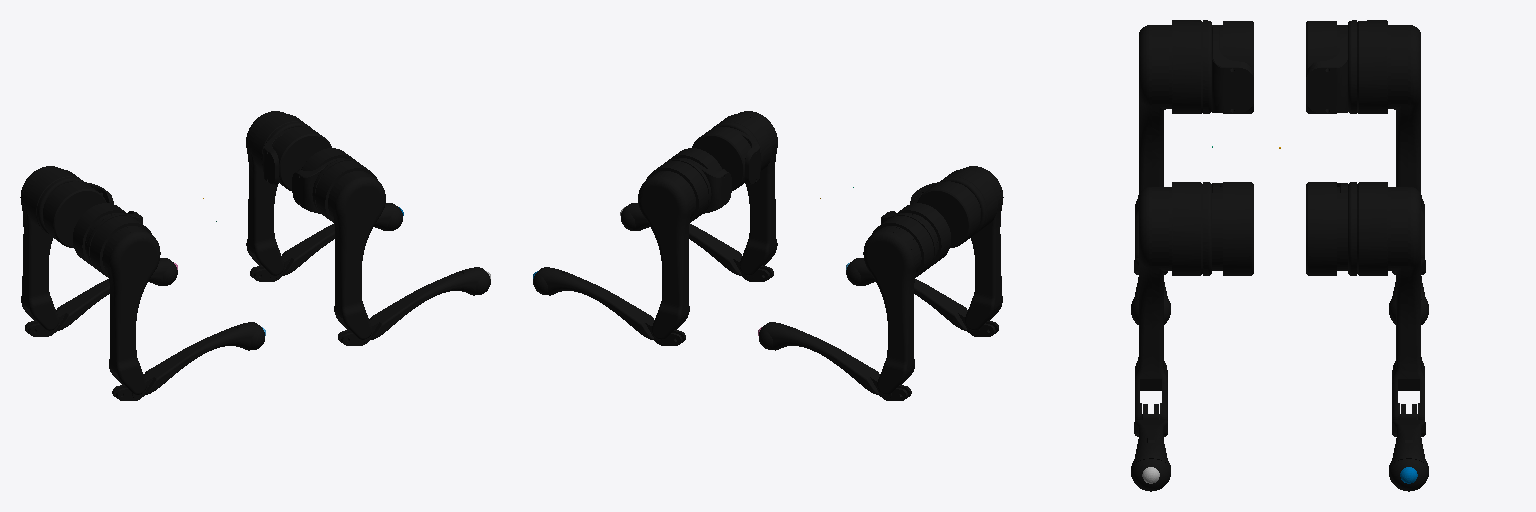
--- What the picture shows (computed from the rendered views, not written in the file) ---
3 views of the same robot in one strip: view 1: azimuth 30°, elevation 25°; view 2: azimuth 150°, elevation 25°; view 3: azimuth 270°, elevation 25° (orthographic).
Robot: go1_description — 38 links, 37 joints (12 revolute, 25 fixed); root link base; default pose: joints at zero except 4 at the middle of their limits (FR_calf_joint = -1.78, FL_calf_joint = -1.78, RR_calf_joint = -1.78, RL_calf_joint = -1.78).
Visible links, largest first — view 1: FR_thigh, RR_thigh, RL_thigh, FL_thigh, FR_calf, RR_calf, FL_hip, RL_hip, FL_calf, RL_calf, FR_hip, RR_hip; view 2: FL_thigh, RL_thigh, RR_thigh, FR_thigh, FL_calf, RL_calf, FR_hip, RR_hip, FR_calf, RR_calf, FL_hip, RL_hip; view 3: FL_thigh, FR_thigh, RR_thigh, RL_thigh, FR_hip, FL_hip, RR_hip, RL_hip, FL_calf, FR_calf.
Boxes of the visible links, x1,y1,x2,y2 form: FR_thigh: (312,159,385,339); RR_thigh: (87,214,160,394); RL_thigh: (20,166,83,330); FL_thigh: (246,111,311,275); FR_calf: (338,267,490,345); RR_calf: (112,322,264,400); FL_hip: (263,127,331,190); RL_hip: (43,181,113,247); FL_calf: (250,203,402,281); RL_calf: (25,258,177,336); FR_hip: (292,148,355,213); RR_hip: (73,203,142,265); FL_thigh: (638,159,711,339); RL_thigh: (863,214,936,394); RR_thigh: (940,166,1003,330); FR_thigh: (712,111,777,275); FL_calf: (533,267,685,345); RL_calf: (759,322,911,400); FR_hip: (692,127,760,190); RR_hip: (910,181,980,247); FR_calf: (621,203,773,281); RR_calf: (846,258,998,336); FL_hip: (668,148,731,213); RL_hip: (881,203,950,265); FL_thigh: (1348,182,1424,421); FR_thigh: (1135,182,1211,420); RR_thigh: (1135,20,1211,258); RL_thigh: (1348,20,1424,258); FR_hip: (1212,182,1253,275); FL_hip: (1306,182,1347,275); RR_hip: (1212,21,1253,113); RL_hip: (1306,21,1347,113); FL_calf: (1389,404,1428,491); FR_calf: (1131,404,1170,491).
Bounding box of the posed robot: 0.6405 × 0.2935 × 0.271 m (x, y, z).
Meshes: 7 distinct files referenced, 12 mesh visuals loaded (4 Collada DAE); not drawn: 9 (reference not matched to a file when rendering).

The robot description file, URDF, robot "go1_description":
<?xml version="1.0" ?>
<!-- =================================================================================== -->
<!-- |    This document was autogenerated by xacro from robot.xacro                    | -->
<!-- |    EDITING THIS FILE BY HAND IS NOT RECOMMENDED                                 | -->
<!-- =================================================================================== -->
<robot name="go1_description" xmlns:xacro="http://www.ros.org/wiki/xacro">
  <material name="black">
    <color rgba="0.0 0.0 0.0 1.0"/>
  </material>
  <material name="blue">
    <color rgba="0.0 0.0 0.8 1.0"/>
  </material>
  <material name="green">
    <color rgba="0.0 0.8 0.0 1.0"/>
  </material>
  <material name="grey">
    <color rgba="0.2 0.2 0.2 1.0"/>
  </material>
  <material name="silver">
    <color rgba="0.913725490196 0.913725490196 0.847058823529 1.0"/>
  </material>
  <material name="orange">
    <color rgba="1.0 0.423529411765 0.0392156862745 1.0"/>
  </material>
  <material name="brown">
    <color rgba="0.870588235294 0.811764705882 0.764705882353 1.0"/>
  </material>
  <material name="red">
    <color rgba="0.8 0.0 0.0 1.0"/>
  </material>
  <material name="white">
    <color rgba="1.0 1.0 1.0 1.0"/>
  </material>
  <!-- ros_control plugin -->
  <!-- <gazebo>
    <plugin filename="libgazebo_ros_control.so" name="gazebo_ros_control">
      <robotNamespace>/go1_gazebo</robotNamespace>
      <robotSimType>gazebo_ros_control/DefaultRobotHWSim</robotSimType>
    </plugin>
  </gazebo> -->
  <!-- Show the trajectory of trunk center. -->
  <!-- <gazebo>
    <plugin filename="libLinkPlot3DPlugin.so" name="3dplot">
      <frequency>10</frequency>
      <plot>
        <link>base</link>
        <pose>0 0 0 0 0 0</pose>
        <material>Gazebo/Yellow</material>
      </plot>
    </plugin>
  </gazebo> -->
  <!-- Show the trajectory of foot. You can add another trajectory about another foot. -->
  <!-- <gazebo>
        <plugin name="3dplot" filename="libLinkPlot3DPlugin.so">
            <frequency>100</frequency>
            <plot>
                <link>FL_foot</link>
                <pose>0 0 0 0 0 0</pose>
                <material>Gazebo/Green</material>
            </plot>
        </plugin>
    </gazebo> -->
  <!-- <gazebo>
    <plugin filename="libgazebo_ros_force.so" name="gazebo_ros_force">
      <bodyName>trunk</bodyName>
      <topicName>/apply_force/trunk</topicName>
    </plugin>
  </gazebo> -->
  <!-- <gazebo reference="imu_link">
    <gravity>true</gravity>
    <sensor name="imu_sensor" type="imu">
      <always_on>true</always_on>
      <update_rate>1000</update_rate>
      <visualize>true</visualize>
      <topic>__default_topic__</topic>
      <plugin filename="libgazebo_ros_imu_sensor.so" name="imu_plugin">
        <topicName>trunk_imu</topicName>
        <bodyName>imu_link</bodyName>
        <updateRateHZ>1000.0</updateRateHZ>
        <gaussianNoise>0.0</gaussianNoise>
        <xyzOffset>0 0 0</xyzOffset>
        <rpyOffset>0 0 0</rpyOffset>
        <frameName>imu_link</frameName>
      </plugin>
      <pose>0 0 0 0 0 0</pose>
    </sensor>
  </gazebo> -->
  <!-- Depth camera -->
  <!-- <gazebo>
        <plugin name="camera_plugin" filename="libgazebo_ros_openni_kinect.so">
            <baseline>0.025</baseline>
            <always_on>true</always_on>
            <updateRate>0.0</updateRate>
            <cameraName>unitree_camera_left</cameraName>
            <frameName>depthCamera_link_left</frameName>
            <imageTopicName>rgb/imageRaw_left</imageTopicName>
            <depthImageTopicName>depth/imageRaw_left</depthImageTopicName>
            <pointCloudTopicName>depth/points_left</pointCloudTopicName>
            <cameraInfoTopicName>rgb/cameraInfo_left</cameraInfoTopicName>              
            <depthImageCameraInfoTopicName>depth/cameraInfo_left</depthImageCameraInfoTopicName>            
            <pointCloudCutoff>0.1</pointCloudCutoff>                
            <pointCloudCutoffMax>1.5</pointCloudCutoffMax>                
            <distortionK1>0.0</distortionK1>
            <distortionK2>0.0</distortionK2>
            <distortionK3>0.0</distortionK3>
            <distortionT1>0.0</distortionT1>
            <distortionT2>0.0</distortionT2>
            <CxPrime>0.0</CxPrime>
            <Cx>0.0045</Cx>
            <Cy>0.0039</Cy>
            <focalLength>0.004</focalLength>
            <hackBaseline>0.0</hackBaseline>
        </plugin>
    </gazebo> -->
  <!-- <gazebo reference="depthCamera_link_left">
        <sensor name="unitree_camera_left" type="depth_camera">
            <update_rate>16</update_rate>
            <always_on>true</always_on>
            <visualize>true</visualize>
            <camera>
                <horizontal_fov>2.094</horizontal_fov>
                <image>
                    <width>928</width>
                    <height>800</height>
                    <format>R8G8B8</format>
                </image>
                <depth_camera></depth_camera>
                <clip>
                    <near>0.1</near>
                    <far>100</far>
                </clip>
            </camera>
            <plugin name="camera_plugin" filename="libgazebo_ros_openni_kinect.so">
                <baseline>0.025</baseline>
                <always_on>true</always_on>
                <updateRate>0.0</updateRate>
                <cameraName>unitree_camera_left</cameraName>
                <frameName>depthCamera_link_left</frameName>
                <imageTopicName>rgb/imageRaw_left</imageTopicName>
                <depthImageTopicName>depth/imageRaw_left</depthImageTopicName>
                <pointCloudTopicName>depth/points_left</pointCloudTopicName>
                <cameraInfoTopicName>rgb/cameraInfo_left</cameraInfoTopicName>              
                <depthImageCameraInfoTopicName>depth/cameraInfo_left</depthImageCameraInfoTopicName>            
                <pointCloudCutoff>0.1</pointCloudCutoff>                
                <pointCloudCutoffMax>1.5</pointCloudCutoffMax>                
                <distortionK1>0.0</distortionK1>
                <distortionK2>0.0</distortionK2>
                <distortionK3>0.0</distortionK3>
                <distortionT1>0.0</distortionT1>
                <distortionT2>0.0</distortionT2>
                <CxPrime>0.0</CxPrime>
                <Cx>0.0045</Cx>
                <Cy>0.0039</Cy>
                <focalLength>0.004</focalLength>
                <hackBaseline>0.0</hackBaseline>
            </plugin>
        </sensor>
    </gazebo> -->
  <!-- <gazebo reference="depthCamera_link_left">
    <sensor name="camera_link_camera" type="depth">
      <update_rate>20</update_rate>
      <camera>
        <horizontal_fov>1.047198</horizontal_fov>
        <image>
          <width>640</width>
          <height>480</height>
          <format>R8G8B8</format>
        </image>
        <clip>
          <near>0.05</near>
          <far>3</far>
        </clip>
      </camera>
      <plugin filename="libgazebo_ros_openni_kinect.so" name="camera_link_controller">
        <baseline>0.2</baseline>
        <alwaysOn>true</alwaysOn>
        <updateRate>1.0</updateRate>
        <cameraName>camera_link_ir</cameraName>
        <imageTopicName>/camera_link/color/image_raw</imageTopicName>
        <cameraInfoTopicName>/camera_link/color/camera_info</cameraInfoTopicName>
        <depthImageTopicName>/camera_link/depth/image_raw</depthImageTopicName>
        <depthImageInfoTopicName>/camera_link/depth/camera_info</depthImageInfoTopicName>
        <pointCloudTopicName>/camera_link/depth/points</pointCloudTopicName>
        <frameName>depthCamera_link_left</frameName>
        <pointCloudCutoff>0.5</pointCloudCutoff>
        <pointCloudCutoffMax>3.0</pointCloudCutoffMax>
        <distortionK1>0.00000001</distortionK1>
        <distortionK2>0.00000001</distortionK2>
        <distortionK3>0.00000001</distortionK3>
        <distortionT1>0.00000001</distortionT1>
        <distortionT2>0.00000001</distortionT2>
        <CxPrime>0</CxPrime>
        <Cx>0</Cx>
        <Cy>0</Cy>
        <focalLength>0</focalLength>
        <hackBaseline>0</hackBaseline>
      </plugin>
    </sensor>
  </gazebo> -->
  <!-- Foot contacts. -->
  <!-- <gazebo reference="FR_calf">
    <sensor name="FR_foot_contact" type="contact">
      <update_rate>100</update_rate>
      <plugin filename="libunitreeFootContactPlugin.so" name="contactPlugin"/>
      <contact>
        <collision>FR_calf_fixed_joint_lump__FR_foot_collision_1</collision>
      </contact>
    </sensor>
  </gazebo>
  <gazebo reference="FL_calf">
    <sensor name="FL_foot_contact" type="contact">
      <update_rate>100</update_rate>
      <plugin filename="libunitreeFootContactPlugin.so" name="contactPlugin"/>
      <contact>
        <collision>FL_calf_fixed_joint_lump__FL_foot_collision_1</collision>
      </contact>
    </sensor>
  </gazebo>
  <gazebo reference="RR_calf">
    <sensor name="RR_foot_contact" type="contact">
      <update_rate>100</update_rate>
      <plugin filename="libunitreeFootContactPlugin.so" name="contactPlugin"/>
      <contact>
        <collision>RR_calf_fixed_joint_lump__RR_foot_collision_1</collision>
      </contact>
    </sensor>
  </gazebo>
  <gazebo reference="RL_calf">
    <sensor name="RL_foot_contact" type="contact">
      <update_rate>100</update_rate>
      <plugin filename="libunitreeFootContactPlugin.so" name="contactPlugin"/>
      <contact>
        <collision>RL_calf_fixed_joint_lump__RL_foot_collision_1</collision>
      </contact>
    </sensor>
  </gazebo> -->
  <!-- Visualization of Foot contacts. -->
  <gazebo reference="FR_foot">
    <visual>
      <plugin filename="libunitreeDrawForcePlugin.so" name="drawForcePlugin">
        <topicName>FR_foot_contact</topicName>
      </plugin>
    </visual>
  </gazebo>
  <gazebo reference="FL_foot">
    <visual>
      <plugin filename="libunitreeDrawForcePlugin.so" name="drawForcePlugin">
        <topicName>FL_foot_contact</topicName>
      </plugin>
    </visual>
  </gazebo>
  <gazebo reference="RR_foot">
    <visual>
      <plugin filename="libunitreeDrawForcePlugin.so" name="drawForcePlugin">
        <topicName>RR_foot_contact</topicName>
      </plugin>
    </visual>
  </gazebo>
  <gazebo reference="RL_foot">
    <visual>
      <plugin filename="libunitreeDrawForcePlugin.so" name="drawForcePlugin">
        <topicName>RL_foot_contact</topicName>
      </plugin>
    </visual>
  </gazebo>
  <gazebo reference="base">
    <material>Gazebo/Green</material>
    <turnGravityOff>false</turnGravityOff>
  </gazebo>
  <gazebo reference="trunk">
    <mu1>0.2</mu1>
    <mu2>0.2</mu2>
    <kp value="1000000.0"/>
    <kd value="1.0"/>
  </gazebo>
  <gazebo reference="stick_link">
    <mu1>0.2</mu1>
    <mu2>0.2</mu2>
    <material>Gazebo/White</material>
  </gazebo>
  <gazebo reference="imu_link">
    <mu1>0.2</mu1>
    <mu2>0.2</mu2>
    <material>Gazebo/Red</material>
  </gazebo>
  <!-- FL leg -->
  <gazebo reference="FL_hip">
    <mu1>0.2</mu1>
    <mu2>0.2</mu2>
    <material>Gazebo/DarkGrey</material>
  </gazebo>
  <gazebo reference="FL_thigh">
    <mu1>0.2</mu1>
    <mu2>0.2</mu2>
    <self_collide>1</self_collide>
    <material>Gazebo/DarkGrey</material>
    <kp value="1000000.0"/>
    <kd value="1.0"/>
  </gazebo>
  <gazebo reference="FL_calf">
    <mu1>0.2</mu1>
    <mu2>0.2</mu2>
    <self_collide>1</self_collide>
  </gazebo>
  <gazebo reference="FL_foot">
    <mu1>0.6</mu1>
    <mu2>0.6</mu2>
    <self_collide>1</self_collide>
    <material>Gazebo/DarkGrey</material>
    <kp value="1000000.0"/>
    <kd value="1.0"/>
  </gazebo>
  <!-- FR leg -->
  <gazebo reference="FR_hip">
    <mu1>0.2</mu1>
    <mu2>0.2</mu2>
    <material>Gazebo/DarkGrey</material>
  </gazebo>
  <gazebo reference="FR_thigh">
    <mu1>0.2</mu1>
    <mu2>0.2</mu2>
    <self_collide>1</self_collide>
    <material>Gazebo/DarkGrey</material>
    <kp value="1000000.0"/>
    <kd value="1.0"/>
  </gazebo>
  <gazebo reference="FR_calf">
    <mu1>0.2</mu1>
    <mu2>0.2</mu2>
    <self_collide>1</self_collide>
  </gazebo>
  <gazebo reference="FR_foot">
    <mu1>0.6</mu1>
    <mu2>0.6</mu2>
    <self_collide>1</self_collide>
    <material>Gazebo/DarkGrey</material>
    <kp value="1000000.0"/>
    <kd value="1.0"/>
  </gazebo>
  <!-- RL leg -->
  <gazebo reference="RL_hip">
    <mu1>0.2</mu1>
    <mu2>0.2</mu2>
    <material>Gazebo/DarkGrey</material>
  </gazebo>
  <gazebo reference="RL_thigh">
    <mu1>0.2</mu1>
    <mu2>0.2</mu2>
    <self_collide>1</self_collide>
    <material>Gazebo/DarkGrey</material>
    <kp value="1000000.0"/>
    <kd value="1.0"/>
  </gazebo>
  <gazebo reference="RL_calf">
    <mu1>0.2</mu1>
    <mu2>0.2</mu2>
    <self_collide>1</self_collide>
  </gazebo>
  <gazebo reference="RL_foot">
    <mu1>0.6</mu1>
    <mu2>0.6</mu2>
    <self_collide>1</self_collide>
    <material>Gazebo/DarkGrey</material>
    <kp value="1000000.0"/>
    <kd value="1.0"/>
  </gazebo>
  <!-- RR leg -->
  <gazebo reference="RR_hip">
    <mu1>0.2</mu1>
    <mu2>0.2</mu2>
    <material>Gazebo/DarkGrey</material>
  </gazebo>
  <gazebo reference="RR_thigh">
    <mu1>0.2</mu1>
    <mu2>0.2</mu2>
    <self_collide>1</self_collide>
    <material>Gazebo/DarkGrey</material>
    <kp value="1000000.0"/>
    <kd value="1.0"/>
  </gazebo>
  <gazebo reference="RR_calf">
    <mu1>0.2</mu1>
    <mu2>0.2</mu2>
    <self_collide>1</self_collide>
  </gazebo>
  <gazebo reference="RR_foot">
    <mu1>0.6</mu1>
    <mu2>0.6</mu2>
    <self_collide>1</self_collide>
    <material>Gazebo/DarkGrey</material>
    <kp value="1000000.0"/>
    <kd value="1.0"/>
  </gazebo>
  <!-- <xacro:include filename="$(find go1_gazebo)/launch/stairs.urdf.xacro"/> -->
  <!-- <xacro:stairs stairs="15" xpos="0" ypos="0" zpos="0" /> -->
  <!-- Debug mode will hung up the robot, use "true" or "false" to switch it. -->
  <!-- <xacro:if value="$(arg DEBUG)">
    <link name="world"/>
    <joint name="base_static_joint" type="fixed">
      <origin rpy="0 0 0" xyz="0 0 0"/>
      <parent link="world"/>
      <child link="base"/>
    </joint>
  </xacro:if>  -->
  <link name="base">
    <visual>
      <origin rpy="0 0 0" xyz="0 0 0"/>
      <geometry>
        <box size="0.001 0.001 0.001"/>
      </geometry>
    </visual>
  </link>
  <joint name="floating_base" type="fixed">
    <origin rpy="0 0 0" xyz="0 0 0"/>
    <parent link="base"/>
    <child link="trunk"/>
  </joint>
  <link name="trunk">
    <visual>
      <origin rpy="0 0 0" xyz="0 0 0"/>
      <geometry>
        <mesh filename="../meshes/trunk.dae" scale="1 1 1"/>
      </geometry>
      <!-- <material name="orange"/> -->
    </visual>
    <collision>
      <origin rpy="0 0 0" xyz="0 0 0"/>
      <geometry>
        <box size="0.28 0.16 0.11"/>
      </geometry>
    </collision>
    <inertial>
      <origin rpy="0 0 0" xyz="0.0223 0.002 -0.0005"/>
      <mass value="5.204"/>
      <inertia ixx="0.0168352186" ixy="0.0004636141" ixz="0.0002367952" iyy="0.0656071082" iyz="3.6671e-05" izz="0.0742720659"/>
    </inertial>
  </link>
  <joint name="imu_joint" type="fixed">
    <parent link="trunk"/>
    <child link="imu_link"/>
    <origin rpy="0 0 0" xyz="-0.01592 -0.06659 -0.00617"/>
  </joint>
  <link name="imu_link">
    <inertial>
      <mass value="0.001"/>
      <origin rpy="0 0 0" xyz="0 0 0"/>
      <inertia ixx="0.0001" ixy="0" ixz="0" iyy="0.0001" iyz="0" izz="0.0001"/>
    </inertial>
    <visual>
      <origin rpy="0 0 0" xyz="0 0 0"/>
      <geometry>
        <box size="0.001 0.001 0.001"/>
      </geometry>
      <!-- <material name="red"/> -->
    </visual>
    <collision>
      <!-- For front face camera module -->
      <!-- The additional realsense camera is taken into account -->
      <origin rpy="0 0 0" xyz="0.28 0.06659 0.0325"/>
      <geometry>
        <box size=".05 .11 .17"/>
      </geometry>
    </collision>
  </link>
  <joint name="FR_hip_joint" type="revolute">
    <origin rpy="0 0 0" xyz="0.1881 -0.04675 0"/>
    <parent link="trunk"/>
    <child link="FR_hip"/>
    <axis xyz="1 0 0"/>
    <dynamics damping="0.0" friction="0.0"/>
    <limit effort="23.7" lower="-1.0471975512" upper="1.0471975512" velocity="30.1"/>
  </joint>
  <link name="FR_hip">
    <visual>
      <origin rpy="3.14159265359 0 0" xyz="0 0 0"/>
      <geometry>
        <mesh filename="../meshes/hip.dae" scale="1 1 1"/>
      </geometry>
      <!-- <material name="orange"/> -->
    </visual>
    <collision>
      <origin rpy="1.57079632679 0 0" xyz="0 0 0"/>
      <geometry>
        <cylinder length="0.04" radius="0.046"/>
      </geometry>
    </collision>
    <inertial>
      <origin rpy="0 0 0" xyz="-0.00541 0.00074 6e-06"/>
      <mass value="0.591"/>
      <inertia ixx="0.000374268192" ixy="-3.6844422e-05" ixz="-9.86754e-07" iyy="0.000635923669" iyz="1.172894e-06" izz="0.000457647394"/>
    </inertial>
  </link>
  <joint name="FR_hip_fixed" type="fixed">
    <origin rpy="0 0 0" xyz="0 -0.08 0"/>
    <parent link="FR_hip"/>
    <child link="FR_thigh_shoulder"/>
  </joint>
  <!-- this link is only for collision -->
  <link name="FR_thigh_shoulder">
    <collision>
      <origin rpy="1.57079632679 0 0" xyz="0 0 0"/>
      <geometry>
        <cylinder length="0.002" radius="0.044"/>
      </geometry>
    </collision>
  </link>
  <joint name="FR_thigh_joint" type="revolute">
    <origin rpy="0 0 0" xyz="0 -0.08 0"/>
    <parent link="FR_hip"/>
    <child link="FR_thigh"/>
    <axis xyz="0 1 0"/>
    <dynamics damping="0.0" friction="0.0"/>
    <limit effort="23.7" lower="-0.663225115758" upper="2.96705972839" velocity="30.1"/>
  </joint>
  <link name="FR_thigh">
    <visual>
      <origin rpy="0 0 0" xyz="0 0 0"/>
      <geometry>
        <mesh filename="../meshes/thigh_mirror.dae" scale="1 1 1"/>
      </geometry>
      <!-- <material name="orange"/> -->
    </visual>
    <collision>
      <origin rpy="0 1.57079632679 0" xyz="0 0 -0.1065"/>
      <geometry>
        <box size="0.213 0.0245 0.034"/>
      </geometry>
    </collision>
    <inertial>
      <origin rpy="0 0 0" xyz="-0.003468 0.018947 -0.032736"/>
      <mass value="0.92"/>
      <inertia ixx="0.005851561134" ixy="-1.783284e-06" ixz="0.000328291374" iyy="0.005596155105" iyz="-2.1430713e-05" izz="0.00107157026"/>
    </inertial>
  </link>
  <joint name="FR_calf_joint" type="revolute">
    <origin rpy="0 0 0" xyz="0 0 -0.213"/>
    <parent link="FR_thigh"/>
    <child link="FR_calf"/>
    <axis xyz="0 1 0"/>
    <dynamics damping="0.0" friction="0.0"/>
    <limit effort="23.7" lower="-2.72271363311" upper="-0.837758040957" velocity="30.1"/>
  </joint>
  <link name="FR_calf">
    <visual>
      <origin rpy="0 0 0" xyz="0 0 0"/>
      <geometry>
        <mesh filename="../meshes/calf.dae" scale="1 1 1"/>
      </geometry>
      <!-- <material name="orange"/> -->
    </visual>
    <collision>
      <origin rpy="0 1.57079632679 0" xyz="0 0 -0.1065"/>
      <geometry>
        <box size="0.213 0.016 0.016"/>
      </geometry>
    </collision>
    <inertial>
      <origin rpy="0 0 0" xyz="0.006286 0.001307 -0.122269"/>
      <mass value="0.131"/>
      <inertia ixx="0.002939186297" ixy="1.440899e-06" ixz="-0.00010535955" iyy="0.00295576935" iyz="-2.4397752e-05" izz="3.0273372e-05"/>
    </inertial>
  </link>
  <joint name="FR_foot_fixed" type="fixed">
    <origin rpy="0 0 0" xyz="0 0 -0.213"/>
    <parent link="FR_calf"/>
    <child link="FR_foot"/>
  </joint>
  <link name="FR_foot">
    <visual>
      <origin rpy="0 0 0" xyz="0 0 0"/>
      <geometry>
        <sphere radius="0.01"/>
      </geometry>
      <!-- <material name="orange"/> -->
    </visual>
    <collision>
      <origin rpy="0 0 0" xyz="0 0 0"/>
      <geometry>
        <sphere radius="0.02"/>
      </geometry>
    </collision>
    <inertial>
      <mass value="0.06"/>
      <inertia ixx="9.6e-06" ixy="0.0" ixz="0.0" iyy="9.6e-06" iyz="0.0" izz="9.6e-06"/>
    </inertial>
  </link>
  <!-- <transmission name="FR_hip_tran">
    <type>transmission_interface/SimpleTransmission</type>
    <joint name="FR_hip_joint">
      <hardwareInterface>hardware_interface/EffortJointInterface</hardwareInterface>
    </joint>
    <actuator name="FR_hip_motor">
      <hardwareInterface>hardware_interface/EffortJointInterface</hardwareInterface>
      <mechanicalReduction>1</mechanicalReduction>
    </actuator>
  </transmission> -->
  <!-- <transmission name="FR_thigh_tran">
    <type>transmission_interface/SimpleTransmission</type>
    <joint name="FR_thigh_joint">
      <hardwareInterface>hardware_interface/EffortJointInterface</hardwareInterface>
    </joint>
    <actuator name="FR_thigh_motor">
      <hardwareInterface>hardware_interface/EffortJointInterface</hardwareInterface>
      <mechanicalReduction>1</mechanicalReduction>
    </actuator>
  </transmission> -->
  <!-- <transmission name="FR_calf_tran">
    <type>transmission_interface/SimpleTransmission</type>
    <joint name="FR_calf_joint">
      <hardwareInterface>hardware_interface/EffortJointInterface</hardwareInterface>
    </joint>
    <actuator name="FR_calf_motor">
      <hardwareInterface>hardware_interface/EffortJointInterface</hardwareInterface>
      <mechanicalReduction>1</mechanicalReduction>
    </actuator>
  </transmission> -->
  <joint name="FL_hip_joint" type="revolute">
    <origin rpy="0 0 0" xyz="0.1881 0.04675 0"/>
    <parent link="trunk"/>
    <child link="FL_hip"/>
    <axis xyz="1 0 0"/>
    <dynamics damping="0.0" friction="0.0"/>
    <limit effort="23.7" lower="-1.0471975512" upper="1.0471975512" velocity="30.1"/>
  </joint>
  <link name="FL_hip">
    <visual>
      <origin rpy="0 0 0" xyz="0 0 0"/>
      <geometry>
        <mesh filename="../meshes/hip.dae" scale="1 1 1"/>
      </geometry>
      <!-- <material name="orange"/> -->
    </visual>
    <collision>
      <origin rpy="1.57079632679 0 0" xyz="0 0 0"/>
      <geometry>
        <cylinder length="0.04" radius="0.046"/>
      </geometry>
    </collision>
    <inertial>
      <origin rpy="0 0 0" xyz="-0.00541 -0.00074 6e-06"/>
      <mass value="0.591"/>
      <inertia ixx="0.000374268192" ixy="3.6844422e-05" ixz="-9.86754e-07" iyy="0.000635923669" iyz="-1.172894e-06" izz="0.000457647394"/>
    </inertial>
  </link>
  <joint name="FL_hip_fixed" type="fixed">
    <origin rpy="0 0 0" xyz="0 0.08 0"/>
    <parent link="FL_hip"/>
    <child link="FL_thigh_shoulder"/>
  </joint>
  <!-- this link is only for collision -->
  <link name="FL_thigh_shoulder">
    <collision>
      <origin rpy="1.57079632679 0 0" xyz="0 0 0"/>
      <geometry>
        <cylinder length="0.002" radius="0.044"/>
      </geometry>
    </collision>
  </link>
  <joint name="FL_thigh_joint" type="revolute">
    <origin rpy="0 0 0" xyz="0 0.08 0"/>
    <parent link="FL_hip"/>
    <child link="FL_thigh"/>
    <axis xyz="0 1 0"/>
    <dynamics damping="0.0" friction="0.0"/>
    <limit effort="23.7" lower="-0.663225115758" upper="2.96705972839" velocity="30.1"/>
  </joint>
  <link name="FL_thigh">
    <visual>
      <origin rpy="0 0 0" xyz="0 0 0"/>
      <geometry>
        <mesh filename="../meshes/thigh.dae" scale="1 1 1"/>
      </geometry>
      <!-- <material name="orange"/> -->
    </visual>
    <collision>
      <origin rpy="0 1.57079632679 0" xyz="0 0 -0.1065"/>
      <geometry>
        <box size="0.213 0.0245 0.034"/>
      </geometry>
    </collision>
    <inertial>
      <origin rpy="0 0 0" xyz="-0.003468 -0.018947 -0.032736"/>
      <mass value="0.92"/>
      <inertia ixx="0.005851561134" ixy="1.783284e-06" ixz="0.000328291374" iyy="0.005596155105" iyz="2.1430713e-05" izz="0.00107157026"/>
    </inertial>
  </link>
  <joint name="FL_calf_joint" type="revolute">
    <origin rpy="0 0 0" xyz="0 0 -0.213"/>
    <parent link="FL_thigh"/>
    <child link="FL_calf"/>
    <axis xyz="0 1 0"/>
    <dynamics damping="0.0" friction="0.0"/>
    <limit effort="23.7" lower="-2.72271363311" upper="-0.837758040957" velocity="30.1"/>
  </joint>
  <link name="FL_calf">
    <visual>
      <origin rpy="0 0 0" xyz="0 0 0"/>
      <geometry>
        <mesh filename="../meshes/calf.dae" scale="1 1 1"/>
      </geometry>
      <!-- <material name="orange"/> -->
    </visual>
    <collision>
      <origin rpy="0 1.57079632679 0" xyz="0 0 -0.1065"/>
      <geometry>
        <box size="0.213 0.016 0.016"/>
      </geometry>
    </collision>
    <inertial>
      <origin rpy="0 0 0" xyz="0.006286 0.001307 -0.122269"/>
      <mass value="0.131"/>
      <inertia ixx="0.002939186297" ixy="1.440899e-06" ixz="-0.00010535955" iyy="0.00295576935" iyz="-2.4397752e-05" izz="3.0273372e-05"/>
    </inertial>
  </link>
  <joint name="FL_foot_fixed" type="fixed">
    <origin rpy="0 0 0" xyz="0 0 -0.213"/>
    <parent link="FL_calf"/>
    <child link="FL_foot"/>
  </joint>
  <link name="FL_foot">
    <visual>
      <origin rpy="0 0 0" xyz="0 0 0"/>
      <geometry>
        <sphere radius="0.01"/>
      </geometry>
      <!-- <material name="orange"/> -->
    </visual>
    <collision>
      <origin rpy="0 0 0" xyz="0 0 0"/>
      <geometry>
        <sphere radius="0.02"/>
      </geometry>
    </collision>
    <inertial>
      <mass value="0.06"/>
      <inertia ixx="9.6e-06" ixy="0.0" ixz="0.0" iyy="9.6e-06" iyz="0.0" izz="9.6e-06"/>
    </inertial>
  </link>
  <!-- <transmission name="FL_hip_tran">
    <type>transmission_interface/SimpleTransmission</type>
    <joint name="FL_hip_joint">
      <hardwareInterface>hardware_interface/EffortJointInterface</hardwareInterface>
    </joint>
    <actuator name="FL_hip_motor">
      <hardwareInterface>hardware_interface/EffortJointInterface</hardwareInterface>
      <mechanicalReduction>1</mechanicalReduction>
    </actuator>
  </transmission> -->
  <!-- <transmission name="FL_thigh_tran">
    <type>transmission_interface/SimpleTransmission</type>
    <joint name="FL_thigh_joint">
      <hardwareInterface>hardware_interface/EffortJointInterface</hardwareInterface>
    </joint>
    <actuator name="FL_thigh_motor">
      <hardwareInterface>hardware_interface/EffortJointInterface</hardwareInterface>
      <mechanicalReduction>1</mechanicalReduction>
    </actuator>
  </transmission> -->
  <!-- <transmission name="FL_calf_tran">
    <type>transmission_interface/SimpleTransmission</type>
    <joint name="FL_calf_joint">
      <hardwareInterface>hardware_interface/EffortJointInterface</hardwareInterface>
    </joint>
    <actuator name="FL_calf_motor">
      <hardwareInterface>hardware_interface/EffortJointInterface</hardwareInterface>
      <mechanicalReduction>1</mechanicalReduction>
    </actuator>
  </transmission> -->
  <joint name="RR_hip_joint" type="revolute">
    <origin rpy="0 0 0" xyz="-0.1881 -0.04675 0"/>
    <parent link="trunk"/>
    <child link="RR_hip"/>
    <axis xyz="1 0 0"/>
    <dynamics damping="0.0" friction="0.0"/>
    <limit effort="23.7" lower="-1.0471975512" upper="1.0471975512" velocity="30.1"/>
  </joint>
  <link name="RR_hip">
    <visual>
      <origin rpy="3.14159265359 3.14159265359 0" xyz="0 0 0"/>
      <geometry>
        <mesh filename="../meshes/hip.dae" scale="1 1 1"/>
      </geometry>
      <!-- <material name="orange"/> -->
    </visual>
    <collision>
      <origin rpy="1.57079632679 0 0" xyz="0 0 0"/>
      <geometry>
        <cylinder length="0.04" radius="0.046"/>
      </geometry>
    </collision>
    <inertial>
      <origin rpy="0 0 0" xyz="0.00541 0.00074 6e-06"/>
      <mass value="0.591"/>
      <inertia ixx="0.000374268192" ixy="3.6844422e-05" ixz="9.86754e-07" iyy="0.000635923669" iyz="1.172894e-06" izz="0.000457647394"/>
    </inertial>
  </link>
  <joint name="RR_hip_fixed" type="fixed">
    <origin rpy="0 0 0" xyz="0 -0.08 0"/>
    <parent link="RR_hip"/>
    <child link="RR_thigh_shoulder"/>
  </joint>
  <!-- this link is only for collision -->
  <link name="RR_thigh_shoulder">
    <collision>
      <origin rpy="1.57079632679 0 0" xyz="0 0 0"/>
      <geometry>
        <cylinder length="0.002" radius="0.044"/>
      </geometry>
    </collision>
  </link>
  <joint name="RR_thigh_joint" type="revolute">
    <origin rpy="0 0 0" xyz="0 -0.08 0"/>
    <parent link="RR_hip"/>
    <child link="RR_thigh"/>
    <axis xyz="0 1 0"/>
    <dynamics damping="0.0" friction="0.0"/>
    <limit effort="23.7" lower="-0.663225115758" upper="2.96705972839" velocity="30.1"/>
  </joint>
  <link name="RR_thigh">
    <visual>
      <origin rpy="0 0 0" xyz="0 0 0"/>
      <geometry>
        <mesh filename="../meshes/thigh_mirror.dae" scale="1 1 1"/>
      </geometry>
      <!-- <material name="orange"/> -->
    </visual>
    <collision>
      <origin rpy="0 1.57079632679 0" xyz="0 0 -0.1065"/>
      <geometry>
        <box size="0.213 0.0245 0.034"/>
      </geometry>
    </collision>
    <inertial>
      <origin rpy="0 0 0" xyz="-0.003468 0.018947 -0.032736"/>
      <mass value="0.92"/>
      <inertia ixx="0.005851561134" ixy="-1.783284e-06" ixz="0.000328291374" iyy="0.005596155105" iyz="-2.1430713e-05" izz="0.00107157026"/>
    </inertial>
  </link>
  <joint name="RR_calf_joint" type="revolute">
    <origin rpy="0 0 0" xyz="0 0 -0.213"/>
    <parent link="RR_thigh"/>
    <child link="RR_calf"/>
    <axis xyz="0 1 0"/>
    <dynamics damping="0.0" friction="0.0"/>
    <limit effort="23.7" lower="-2.72271363311" upper="-0.837758040957" velocity="30.1"/>
  </joint>
  <link name="RR_calf">
    <visual>
      <origin rpy="0 0 0" xyz="0 0 0"/>
      <geometry>
        <mesh filename="../meshes/calf.dae" scale="1 1 1"/>
      </geometry>
      <!-- <material name="orange"/> -->
    </visual>
    <collision>
      <origin rpy="0 1.57079632679 0" xyz="0 0 -0.1065"/>
      <geometry>
        <box size="0.213 0.016 0.016"/>
      </geometry>
    </collision>
    <inertial>
      <origin rpy="0 0 0" xyz="0.006286 0.001307 -0.122269"/>
      <mass value="0.131"/>
      <inertia ixx="0.002939186297" ixy="1.440899e-06" ixz="-0.00010535955" iyy="0.00295576935" iyz="-2.4397752e-05" izz="3.0273372e-05"/>
    </inertial>
  </link>
  <joint name="RR_foot_fixed" type="fixed">
    <origin rpy="0 0 0" xyz="0 0 -0.213"/>
    <parent link="RR_calf"/>
    <child link="RR_foot"/>
  </joint>
  <link name="RR_foot">
    <visual>
      <origin rpy="0 0 0" xyz="0 0 0"/>
      <geometry>
        <sphere radius="0.01"/>
      </geometry>
      <!-- <material name="orange"/> -->
    </visual>
    <collision>
      <origin rpy="0 0 0" xyz="0 0 0"/>
      <geometry>
        <sphere radius="0.02"/>
      </geometry>
    </collision>
    <inertial>
      <mass value="0.06"/>
      <inertia ixx="9.6e-06" ixy="0.0" ixz="0.0" iyy="9.6e-06" iyz="0.0" izz="9.6e-06"/>
    </inertial>
  </link>
  <!-- <transmission name="RR_hip_tran">
    <type>transmission_interface/SimpleTransmission</type>
    <joint name="RR_hip_joint">
      <hardwareInterface>hardware_interface/EffortJointInterface</hardwareInterface>
    </joint>
    <actuator name="RR_hip_motor">
      <hardwareInterface>hardware_interface/EffortJointInterface</hardwareInterface>
      <mechanicalReduction>1</mechanicalReduction>
    </actuator>
  </transmission> -->
  <!-- <transmission name="RR_thigh_tran">
    <type>transmission_interface/SimpleTransmission</type>
    <joint name="RR_thigh_joint">
      <hardwareInterface>hardware_interface/EffortJointInterface</hardwareInterface>
    </joint>
    <actuator name="RR_thigh_motor">
      <hardwareInterface>hardware_interface/EffortJointInterface</hardwareInterface>
      <mechanicalReduction>1</mechanicalReduction>
    </actuator>
  </transmission> -->
  <!-- <transmission name="RR_calf_tran">
    <type>transmission_interface/SimpleTransmission</type>
    <joint name="RR_calf_joint">
      <hardwareInterface>hardware_interface/EffortJointInterface</hardwareInterface>
    </joint>
    <actuator name="RR_calf_motor">
      <hardwareInterface>hardware_interface/EffortJointInterface</hardwareInterface>
      <mechanicalReduction>1</mechanicalReduction>
    </actuator>
  </transmission> -->
  <joint name="RL_hip_joint" type="revolute">
    <origin rpy="0 0 0" xyz="-0.1881 0.04675 0"/>
    <parent link="trunk"/>
    <child link="RL_hip"/>
    <axis xyz="1 0 0"/>
    <dynamics damping="0.0" friction="0.0"/>
    <limit effort="23.7" lower="-1.0471975512" upper="1.0471975512" velocity="30.1"/>
  </joint>
  <link name="RL_hip">
    <visual>
      <origin rpy="0 3.14159265359 0" xyz="0 0 0"/>
      <geometry>
        <mesh filename="../meshes/hip.dae" scale="1 1 1"/>
      </geometry>
      <!-- <material name="orange"/> -->
    </visual>
    <collision>
      <origin rpy="1.57079632679 0 0" xyz="0 0 0"/>
      <geometry>
        <cylinder length="0.04" radius="0.046"/>
      </geometry>
    </collision>
    <inertial>
      <origin rpy="0 0 0" xyz="0.00541 -0.00074 6e-06"/>
      <mass value="0.591"/>
      <inertia ixx="0.000374268192" ixy="-3.6844422e-05" ixz="9.86754e-07" iyy="0.000635923669" iyz="-1.172894e-06" izz="0.000457647394"/>
    </inertial>
  </link>
  <joint name="RL_hip_fixed" type="fixed">
    <origin rpy="0 0 0" xyz="0 0.08 0"/>
    <parent link="RL_hip"/>
    <child link="RL_thigh_shoulder"/>
  </joint>
  <!-- this link is only for collision -->
  <link name="RL_thigh_shoulder">
    <collision>
      <origin rpy="1.57079632679 0 0" xyz="0 0 0"/>
      <geometry>
        <cylinder length="0.002" radius="0.044"/>
      </geometry>
    </collision>
  </link>
  <joint name="RL_thigh_joint" type="revolute">
    <origin rpy="0 0 0" xyz="0 0.08 0"/>
    <parent link="RL_hip"/>
    <child link="RL_thigh"/>
    <axis xyz="0 1 0"/>
    <dynamics damping="0.0" friction="0.0"/>
    <limit effort="23.7" lower="-0.663225115758" upper="2.96705972839" velocity="30.1"/>
  </joint>
  <link name="RL_thigh">
    <visual>
      <origin rpy="0 0 0" xyz="0 0 0"/>
      <geometry>
        <mesh filename="../meshes/thigh.dae" scale="1 1 1"/>
      </geometry>
      <!-- <material name="orange"/> -->
    </visual>
    <collision>
      <origin rpy="0 1.57079632679 0" xyz="0 0 -0.1065"/>
      <geometry>
        <box size="0.213 0.0245 0.034"/>
      </geometry>
    </collision>
    <inertial>
      <origin rpy="0 0 0" xyz="-0.003468 -0.018947 -0.032736"/>
      <mass value="0.92"/>
      <inertia ixx="0.005851561134" ixy="1.783284e-06" ixz="0.000328291374" iyy="0.005596155105" iyz="2.1430713e-05" izz="0.00107157026"/>
    </inertial>
  </link>
  <joint name="RL_calf_joint" type="revolute">
    <origin rpy="0 0 0" xyz="0 0 -0.213"/>
    <parent link="RL_thigh"/>
    <child link="RL_calf"/>
    <axis xyz="0 1 0"/>
    <dynamics damping="0.0" friction="0.0"/>
    <limit effort="23.7" lower="-2.72271363311" upper="-0.837758040957" velocity="30.1"/>
  </joint>
  <link name="RL_calf">
    <visual>
      <origin rpy="0 0 0" xyz="0 0 0"/>
      <geometry>
        <mesh filename="../meshes/calf.dae" scale="1 1 1"/>
      </geometry>
      <!-- <material name="orange"/> -->
    </visual>
    <collision>
      <origin rpy="0 1.57079632679 0" xyz="0 0 -0.1065"/>
      <geometry>
        <box size="0.213 0.016 0.016"/>
      </geometry>
    </collision>
    <inertial>
      <origin rpy="0 0 0" xyz="0.006286 0.001307 -0.122269"/>
      <mass value="0.131"/>
      <inertia ixx="0.002939186297" ixy="1.440899e-06" ixz="-0.00010535955" iyy="0.00295576935" iyz="-2.4397752e-05" izz="3.0273372e-05"/>
    </inertial>
  </link>
  <joint name="RL_foot_fixed" type="fixed">
    <origin rpy="0 0 0" xyz="0 0 -0.213"/>
    <parent link="RL_calf"/>
    <child link="RL_foot"/>
  </joint>
  <link name="RL_foot">
    <visual>
      <origin rpy="0 0 0" xyz="0 0 0"/>
      <geometry>
        <sphere radius="0.01"/>
      </geometry>
      <!-- <material name="orange"/> -->
    </visual>
    <collision>
      <origin rpy="0 0 0" xyz="0 0 0"/>
      <geometry>
        <sphere radius="0.02"/>
      </geometry>
    </collision>
    <inertial>
      <mass value="0.06"/>
      <inertia ixx="9.6e-06" ixy="0.0" ixz="0.0" iyy="9.6e-06" iyz="0.0" izz="9.6e-06"/>
    </inertial>
  </link>
  <!-- <transmission name="RL_hip_tran">
    <type>transmission_interface/SimpleTransmission</type>
    <joint name="RL_hip_joint">
      <hardwareInterface>hardware_interface/EffortJointInterface</hardwareInterface>
    </joint>
    <actuator name="RL_hip_motor">
      <hardwareInterface>hardware_interface/EffortJointInterface</hardwareInterface>
      <mechanicalReduction>1</mechanicalReduction>
    </actuator>
  </transmission> -->
  <!-- <transmission name="RL_thigh_tran">
    <type>transmission_interface/SimpleTransmission</type>
    <joint name="RL_thigh_joint">
      <hardwareInterface>hardware_interface/EffortJointInterface</hardwareInterface>
    </joint>
    <actuator name="RL_thigh_motor">
      <hardwareInterface>hardware_interface/EffortJointInterface</hardwareInterface>
      <mechanicalReduction>1</mechanicalReduction>
    </actuator>
  </transmission> -->
  <!-- <transmission name="RL_calf_tran">
    <type>transmission_interface/SimpleTransmission</type>
    <joint name="RL_calf_joint">
      <hardwareInterface>hardware_interface/EffortJointInterface</hardwareInterface>
    </joint>
    <actuator name="RL_calf_motor">
      <hardwareInterface>hardware_interface/EffortJointInterface</hardwareInterface>
      <mechanicalReduction>1</mechanicalReduction>
    </actuator>
  </transmission> -->
  <!-- 12.013 kg in urdf -->
  <!-- </transmission> -->
  <joint name="camera_joint_face" type="fixed">
    <origin rpy="3.141592653589793 0 0" xyz="0.2785 0.0125 0.0167"/>
    <parent link="trunk"/>
    <child link="camera_face"/>
  </joint>
  <link name="camera_face">
    <!-- <collision>
      <origin rpy="0 0 0" xyz="0 0 0"/>
      <geometry>
        <box size=".001 .001 .001"/>
      </geometry>
    </collision> -->
    <visual>
      <origin rpy="0 0 0" xyz="0 0 0"/>
      <geometry>
        <mesh filename="../meshes/depthCamera.dae" scale="1 1 1"/>
      </geometry>
    </visual>
    <inertial>
      <mass value="1e-5"/>
      <origin rpy="0 0 0" xyz="0 0 0"/>
      <inertia ixx="1e-6" ixy="0" ixz="0" iyy="1e-6" iyz="0" izz="1e-6"/>
    </inertial>
  </link>
  <joint name="camera_optical_joint_face" type="fixed">
    <origin rpy="-1.5707963267948966 0 -1.5707963267948966" xyz="0 0 0"/>
    <parent link="camera_face"/>
    <child link="camera_optical_face"/>
  </joint>
  <link name="camera_optical_face">
        </link>
  <gazebo reference="camera_face">
    <!-- <material>Gazebo/Black</material> -->
    <sensor name="camera_face_camera" type="depth">
      <update_rate>16</update_rate>
      <camera>
        <horizontal_fov>2.094</horizontal_fov>
        <image>
          <width>928</width>
          <height>800</height>
          <format>R8G8B8</format>
        </image>
        <clip>
          <near>0.1</near>
          <far>5</far>
        </clip>
      </camera>
      <plugin filename="libgazebo_ros_openni_kinect.so" name="camera_face_controller">
        <baseline>0.025</baseline>
        <alwaysOn>true</alwaysOn>
        <updateRate>0.0</updateRate>
        <cameraName>camera_face_ir</cameraName>
        <imageTopicName>/camera_face/color/image_raw</imageTopicName>
        <cameraInfoTopicName>/camera_face/color/camera_info</cameraInfoTopicName>
        <depthImageTopicName>/camera_face/depth/image_raw</depthImageTopicName>
        <depthImageInfoTopicName>/camera_face/depth/camera_info</depthImageInfoTopicName>
        <!-- <pointCloudTopicName>/camera_${name}/depth/points</pointCloudTopicName> -->
        <pointCloudTopicName>/cam1/point_cloud_face</pointCloudTopicName>
        <frameName>camera_optical_face</frameName>
        <pointCloudCutoff>0.1</pointCloudCutoff>
        <pointCloudCutoffMax>1.5</pointCloudCutoffMax>
        <distortionK1>0.0</distortionK1>
        <distortionK2>0.0</distortionK2>
        <distortionK3>0.0</distortionK3>
        <distortionT1>0.0</distortionT1>
        <distortionT2>0.0</distortionT2>
        <CxPrime>0</CxPrime>
        <Cx>0.0045</Cx>
        <Cy>0.0039</Cy>
        <focalLength>0</focalLength>
        <hackBaseline>0</hackBaseline>
      </plugin>
    </sensor>
  </gazebo>
  <joint name="camera_joint_chin" type="fixed">
    <origin rpy="3.141592653589793 1.5707963267948966 0" xyz="0.2522 0.0125 -0.0436"/>
    <parent link="trunk"/>
    <child link="camera_chin"/>
  </joint>
  <link name="camera_chin">
    <!-- <collision>
      <origin rpy="0 0 0" xyz="0 0 0"/>
      <geometry>
        <box size=".001 .001 .001"/>
      </geometry>
    </collision> -->
    <visual>
      <origin rpy="0 0 0" xyz="0 0 0"/>
      <geometry>
        <mesh filename="../meshes/depthCamera.dae" scale="1 1 1"/>
      </geometry>
    </visual>
    <inertial>
      <mass value="1e-5"/>
      <origin rpy="0 0 0" xyz="0 0 0"/>
      <inertia ixx="1e-6" ixy="0" ixz="0" iyy="1e-6" iyz="0" izz="1e-6"/>
    </inertial>
  </link>
  <joint name="camera_optical_joint_chin" type="fixed">
    <origin rpy="-1.5707963267948966 0 -1.5707963267948966" xyz="0 0 0"/>
    <parent link="camera_chin"/>
    <child link="camera_optical_chin"/>
  </joint>
  <link name="camera_optical_chin">
        </link>
  <gazebo reference="camera_chin">
    <!-- <material>Gazebo/Black</material> -->
    <sensor name="camera_chin_camera" type="depth">
      <update_rate>16</update_rate>
      <camera>
        <horizontal_fov>2.094</horizontal_fov>
        <image>
          <width>928</width>
          <height>800</height>
          <format>R8G8B8</format>
        </image>
        <clip>
          <near>0.1</near>
          <far>5</far>
        </clip>
      </camera>
      <plugin filename="libgazebo_ros_openni_kinect.so" name="camera_chin_controller">
        <baseline>0.025</baseline>
        <alwaysOn>true</alwaysOn>
        <updateRate>0.0</updateRate>
        <cameraName>camera_chin_ir</cameraName>
        <imageTopicName>/camera_chin/color/image_raw</imageTopicName>
        <cameraInfoTopicName>/camera_chin/color/camera_info</cameraInfoTopicName>
        <depthImageTopicName>/camera_chin/depth/image_raw</depthImageTopicName>
        <depthImageInfoTopicName>/camera_chin/depth/camera_info</depthImageInfoTopicName>
        <!-- <pointCloudTopicName>/camera_${name}/depth/points</pointCloudTopicName> -->
        <pointCloudTopicName>/cam2/point_cloud_chin</pointCloudTopicName>
        <frameName>camera_optical_chin</frameName>
        <pointCloudCutoff>0.1</pointCloudCutoff>
        <pointCloudCutoffMax>1.5</pointCloudCutoffMax>
        <distortionK1>0.0</distortionK1>
        <distortionK2>0.0</distortionK2>
        <distortionK3>0.0</distortionK3>
        <distortionT1>0.0</distortionT1>
        <distortionT2>0.0</distortionT2>
        <CxPrime>0</CxPrime>
        <Cx>0.0045</Cx>
        <Cy>0.0039</Cy>
        <focalLength>0</focalLength>
        <hackBaseline>0</hackBaseline>
      </plugin>
    </sensor>
  </gazebo>
  <joint name="camera_joint_left" type="fixed">
    <origin rpy="3.141592653589793 0.2618 1.5707963267948966" xyz="-0.066 0.082 -0.0176"/>
    <parent link="trunk"/>
    <child link="camera_left"/>
  </joint>
  <link name="camera_left">
    <!-- <collision>
      <origin rpy="0 0 0" xyz="0 0 0"/>
      <geometry>
        <box size=".001 .001 .001"/>
      </geometry>
    </collision> -->
    <visual>
      <origin rpy="0 0 0" xyz="0 0 0"/>
      <geometry>
        <mesh filename="../meshes/depthCamera.dae" scale="1 1 1"/>
      </geometry>
    </visual>
    <inertial>
      <mass value="1e-5"/>
      <origin rpy="0 0 0" xyz="0 0 0"/>
      <inertia ixx="1e-6" ixy="0" ixz="0" iyy="1e-6" iyz="0" izz="1e-6"/>
    </inertial>
  </link>
  <joint name="camera_optical_joint_left" type="fixed">
    <origin rpy="-1.5707963267948966 0 -1.5707963267948966" xyz="0 0 0"/>
    <parent link="camera_left"/>
    <child link="camera_optical_left"/>
  </joint>
  <link name="camera_optical_left">
        </link>
  <gazebo reference="camera_left">
    <!-- <material>Gazebo/Black</material> -->
    <sensor name="camera_left_camera" type="depth">
      <update_rate>16</update_rate>
      <camera>
        <horizontal_fov>2.094</horizontal_fov>
        <image>
          <width>928</width>
          <height>800</height>
          <format>R8G8B8</format>
        </image>
        <clip>
          <near>0.1</near>
          <far>5</far>
        </clip>
      </camera>
      <plugin filename="libgazebo_ros_openni_kinect.so" name="camera_left_controller">
        <baseline>0.025</baseline>
        <alwaysOn>true</alwaysOn>
        <updateRate>0.0</updateRate>
        <cameraName>camera_left_ir</cameraName>
        <imageTopicName>/camera_left/color/image_raw</imageTopicName>
        <cameraInfoTopicName>/camera_left/color/camera_info</cameraInfoTopicName>
        <depthImageTopicName>/camera_left/depth/image_raw</depthImageTopicName>
        <depthImageInfoTopicName>/camera_left/depth/camera_info</depthImageInfoTopicName>
        <!-- <pointCloudTopicName>/camera_${name}/depth/points</pointCloudTopicName> -->
        <pointCloudTopicName>/cam3/point_cloud_left</pointCloudTopicName>
        <frameName>camera_optical_left</frameName>
        <pointCloudCutoff>0.1</pointCloudCutoff>
        <pointCloudCutoffMax>1.5</pointCloudCutoffMax>
        <distortionK1>0.0</distortionK1>
        <distortionK2>0.0</distortionK2>
        <distortionK3>0.0</distortionK3>
        <distortionT1>0.0</distortionT1>
        <distortionT2>0.0</distortionT2>
        <CxPrime>0</CxPrime>
        <Cx>0.0045</Cx>
        <Cy>0.0039</Cy>
        <focalLength>0</focalLength>
        <hackBaseline>0</hackBaseline>
      </plugin>
    </sensor>
  </gazebo>
  <joint name="camera_joint_right" type="fixed">
    <origin rpy="3.141592653589793 0.2618 -1.5707963267948966" xyz="-0.041 -0.082 -0.0176"/>
    <parent link="trunk"/>
    <child link="camera_right"/>
  </joint>
  <link name="camera_right">
    <!-- <collision>
      <origin rpy="0 0 0" xyz="0 0 0"/>
      <geometry>
        <box size=".001 .001 .001"/>
      </geometry>
    </collision> -->
    <visual>
      <origin rpy="0 0 0" xyz="0 0 0"/>
      <geometry>
        <mesh filename="../meshes/depthCamera.dae" scale="1 1 1"/>
      </geometry>
    </visual>
    <inertial>
      <mass value="1e-5"/>
      <origin rpy="0 0 0" xyz="0 0 0"/>
      <inertia ixx="1e-6" ixy="0" ixz="0" iyy="1e-6" iyz="0" izz="1e-6"/>
    </inertial>
  </link>
  <joint name="camera_optical_joint_right" type="fixed">
    <origin rpy="-1.5707963267948966 0 -1.5707963267948966" xyz="0 0 0"/>
    <parent link="camera_right"/>
    <child link="camera_optical_right"/>
  </joint>
  <link name="camera_optical_right">
        </link>
  <gazebo reference="camera_right">
    <!-- <material>Gazebo/Black</material> -->
    <sensor name="camera_right_camera" type="depth">
      <update_rate>16</update_rate>
      <camera>
        <horizontal_fov>2.094</horizontal_fov>
        <image>
          <width>928</width>
          <height>800</height>
          <format>R8G8B8</format>
        </image>
        <clip>
          <near>0.1</near>
          <far>5</far>
        </clip>
      </camera>
      <plugin filename="libgazebo_ros_openni_kinect.so" name="camera_right_controller">
        <baseline>0.025</baseline>
        <alwaysOn>true</alwaysOn>
        <updateRate>0.0</updateRate>
        <cameraName>camera_right_ir</cameraName>
        <imageTopicName>/camera_right/color/image_raw</imageTopicName>
        <cameraInfoTopicName>/camera_right/color/camera_info</cameraInfoTopicName>
        <depthImageTopicName>/camera_right/depth/image_raw</depthImageTopicName>
        <depthImageInfoTopicName>/camera_right/depth/camera_info</depthImageInfoTopicName>
        <!-- <pointCloudTopicName>/camera_${name}/depth/points</pointCloudTopicName> -->
        <pointCloudTopicName>/cam4/point_cloud_right</pointCloudTopicName>
        <frameName>camera_optical_right</frameName>
        <pointCloudCutoff>0.1</pointCloudCutoff>
        <pointCloudCutoffMax>1.5</pointCloudCutoffMax>
        <distortionK1>0.0</distortionK1>
        <distortionK2>0.0</distortionK2>
        <distortionK3>0.0</distortionK3>
        <distortionT1>0.0</distortionT1>
        <distortionT2>0.0</distortionT2>
        <CxPrime>0</CxPrime>
        <Cx>0.0045</Cx>
        <Cy>0.0039</Cy>
        <focalLength>0</focalLength>
        <hackBaseline>0</hackBaseline>
      </plugin>
    </sensor>
  </gazebo>
  <joint name="camera_joint_rearDown" type="fixed">
    <origin rpy="3.141592653589793 1.5707963267948966 0" xyz="-0.0825 0.0125 -0.04365"/>
    <parent link="trunk"/>
    <child link="camera_rearDown"/>
  </joint>
  <link name="camera_rearDown">
    <!-- <collision>
      <origin rpy="0 0 0" xyz="0 0 0"/>
      <geometry>
        <box size=".001 .001 .001"/>
      </geometry>
    </collision> -->
    <visual>
      <origin rpy="0 0 0" xyz="0 0 0"/>
      <geometry>
        <mesh filename="../meshes/depthCamera.dae" scale="1 1 1"/>
      </geometry>
    </visual>
    <inertial>
      <mass value="1e-5"/>
      <origin rpy="0 0 0" xyz="0 0 0"/>
      <inertia ixx="1e-6" ixy="0" ixz="0" iyy="1e-6" iyz="0" izz="1e-6"/>
    </inertial>
  </link>
  <joint name="camera_optical_joint_rearDown" type="fixed">
    <origin rpy="-1.5707963267948966 0 -1.5707963267948966" xyz="0 0 0"/>
    <parent link="camera_rearDown"/>
    <child link="camera_optical_rearDown"/>
  </joint>
  <link name="camera_optical_rearDown">
        </link>
  <gazebo reference="camera_rearDown">
    <!-- <material>Gazebo/Black</material> -->
    <sensor name="camera_rearDown_camera" type="depth">
      <update_rate>16</update_rate>
      <camera>
        <horizontal_fov>2.094</horizontal_fov>
        <image>
          <width>928</width>
          <height>800</height>
          <format>R8G8B8</format>
        </image>
        <clip>
          <near>0.1</near>
          <far>5</far>
        </clip>
      </camera>
      <plugin filename="libgazebo_ros_openni_kinect.so" name="camera_rearDown_controller">
        <baseline>0.025</baseline>
        <alwaysOn>true</alwaysOn>
        <updateRate>0.0</updateRate>
        <cameraName>camera_rearDown_ir</cameraName>
        <imageTopicName>/camera_rearDown/color/image_raw</imageTopicName>
        <cameraInfoTopicName>/camera_rearDown/color/camera_info</cameraInfoTopicName>
        <depthImageTopicName>/camera_rearDown/depth/image_raw</depthImageTopicName>
        <depthImageInfoTopicName>/camera_rearDown/depth/camera_info</depthImageInfoTopicName>
        <!-- <pointCloudTopicName>/camera_${name}/depth/points</pointCloudTopicName> -->
        <pointCloudTopicName>/cam5/point_cloud_rearDown</pointCloudTopicName>
        <frameName>camera_optical_rearDown</frameName>
        <pointCloudCutoff>0.1</pointCloudCutoff>
        <pointCloudCutoffMax>1.5</pointCloudCutoffMax>
        <distortionK1>0.0</distortionK1>
        <distortionK2>0.0</distortionK2>
        <distortionK3>0.0</distortionK3>
        <distortionT1>0.0</distortionT1>
        <distortionT2>0.0</distortionT2>
        <CxPrime>0</CxPrime>
        <Cx>0.0045</Cx>
        <Cy>0.0039</Cy>
        <focalLength>0</focalLength>
        <hackBaseline>0</hackBaseline>
      </plugin>
    </sensor>
  </gazebo>
  <joint name="camera_laserscan_joint_left" type="fixed">
    <origin rpy="0 0.2618 0" xyz="0 0 0"/>
    <parent link="camera_left"/>
    <child link="camera_laserscan_link_left"/>
  </joint>
  <link name="camera_laserscan_link_left">
    </link>
  <joint name="camera_laserscan_joint_right" type="fixed">
    <origin rpy="0 0.2618 0" xyz="0 0 0"/>
    <parent link="camera_right"/>
    <child link="camera_laserscan_link_right"/>
  </joint>
  <link name="camera_laserscan_link_right">
    </link>
  <joint name="ultraSound_joint_left" type="fixed">
    <origin rpy="0 0.2618 1.5707963267948966" xyz="-0.0535  0.0826 0.00868"/>
    <parent link="trunk"/>
    <child link="ultraSound_left"/>
  </joint>
  <link name="ultraSound_left">
    <!-- <collision>
      <origin rpy="0 0 0" xyz="0 0 0"/>
      <geometry>
        <box size=".001 .001 .001"/>
      </geometry>
    </collision> -->
    <visual>
      <origin rpy="0 0 0" xyz="0 0 0"/>
      <geometry>
        <mesh filename="../meshes/ultraSound.dae" scale="1 1 1"/>
      </geometry>
      <material name="black"/>
    </visual>
    <inertial>
      <mass value="1e-5"/>
      <origin rpy="0 0 0" xyz="0 0 0"/>
      <inertia ixx="1e-6" ixy="0" ixz="0" iyy="1e-6" iyz="0" izz="1e-6"/>
    </inertial>
  </link>
  <joint name="ultraSound_joint_right" type="fixed">
    <origin rpy="0 0.2618 -1.5707963267948966" xyz="-0.0535 -0.0826 0.00868"/>
    <parent link="trunk"/>
    <child link="ultraSound_right"/>
  </joint>
  <link name="ultraSound_right">
    <!-- <collision>
      <origin rpy="0 0 0" xyz="0 0 0"/>
      <geometry>
        <box size=".001 .001 .001"/>
      </geometry>
    </collision> -->
    <visual>
      <origin rpy="0 0 0" xyz="0 0 0"/>
      <geometry>
        <mesh filename="../meshes/ultraSound.dae" scale="1 1 1"/>
      </geometry>
      <material name="black"/>
    </visual>
    <inertial>
      <mass value="1e-5"/>
      <origin rpy="0 0 0" xyz="0 0 0"/>
      <inertia ixx="1e-6" ixy="0" ixz="0" iyy="1e-6" iyz="0" izz="1e-6"/>
    </inertial>
  </link>
  <joint name="ultraSound_joint_face" type="fixed">
    <origin rpy="0 0 0" xyz="0.2747 0.0 -0.0088"/>
    <parent link="trunk"/>
    <child link="ultraSound_face"/>
  </joint>
  <link name="ultraSound_face">
    <!-- <collision>
      <origin rpy="0 0 0" xyz="0 0 0"/>
      <geometry>
        <box size=".001 .001 .001"/>
      </geometry>
    </collision> -->
    <visual>
      <origin rpy="0 0 0" xyz="0 0 0"/>
      <geometry>
        <mesh filename="../meshes/ultraSound.dae" scale="1 1 1"/>
      </geometry>
      <material name="black"/>
    </visual>
    <inertial>
      <mass value="1e-5"/>
      <origin rpy="0 0 0" xyz="0 0 0"/>
      <inertia ixx="1e-6" ixy="0" ixz="0" iyy="1e-6" iyz="0" izz="1e-6"/>
    </inertial>
  </link>
</robot>
